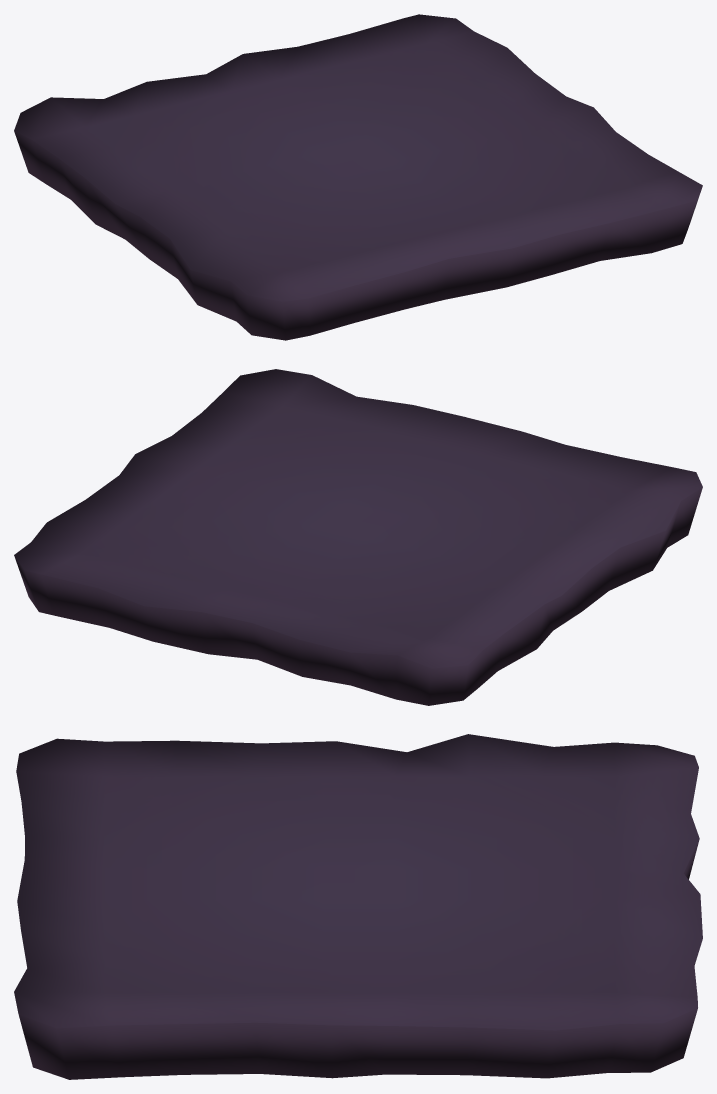
The model's file is Baseplate.fbx.
3 views of the same model, one above another, from view 1: azimuth 30°, elevation 25°; view 2: azimuth 150°, elevation 25°; view 3: azimuth 270°, elevation 25° (orthographic). The views are drawn at different scales.
Parts seen in each view (by area): view 1: Modular_Ground; view 2: Modular_Ground; view 3: Modular_Ground.
Boxes of the visible parts, x1,y1,x2,y2 form: Modular_Ground: (14, 14, 702, 340); Modular_Ground: (14, 369, 702, 705); Modular_Ground: (14, 734, 702, 1079).
Bounding box in the file's own units: 1976 × 200 × 1957.
